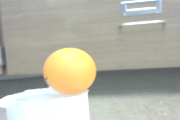PingPongBall: (44, 47, 96, 92)
